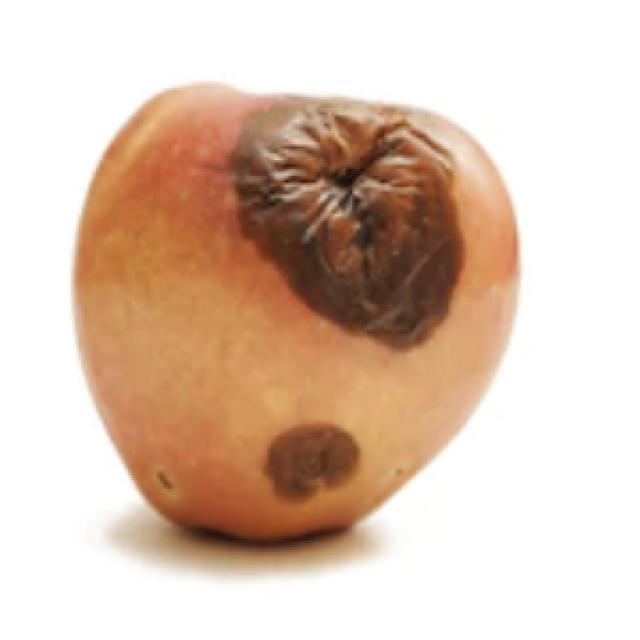Rotten: (90, 81, 520, 546)
